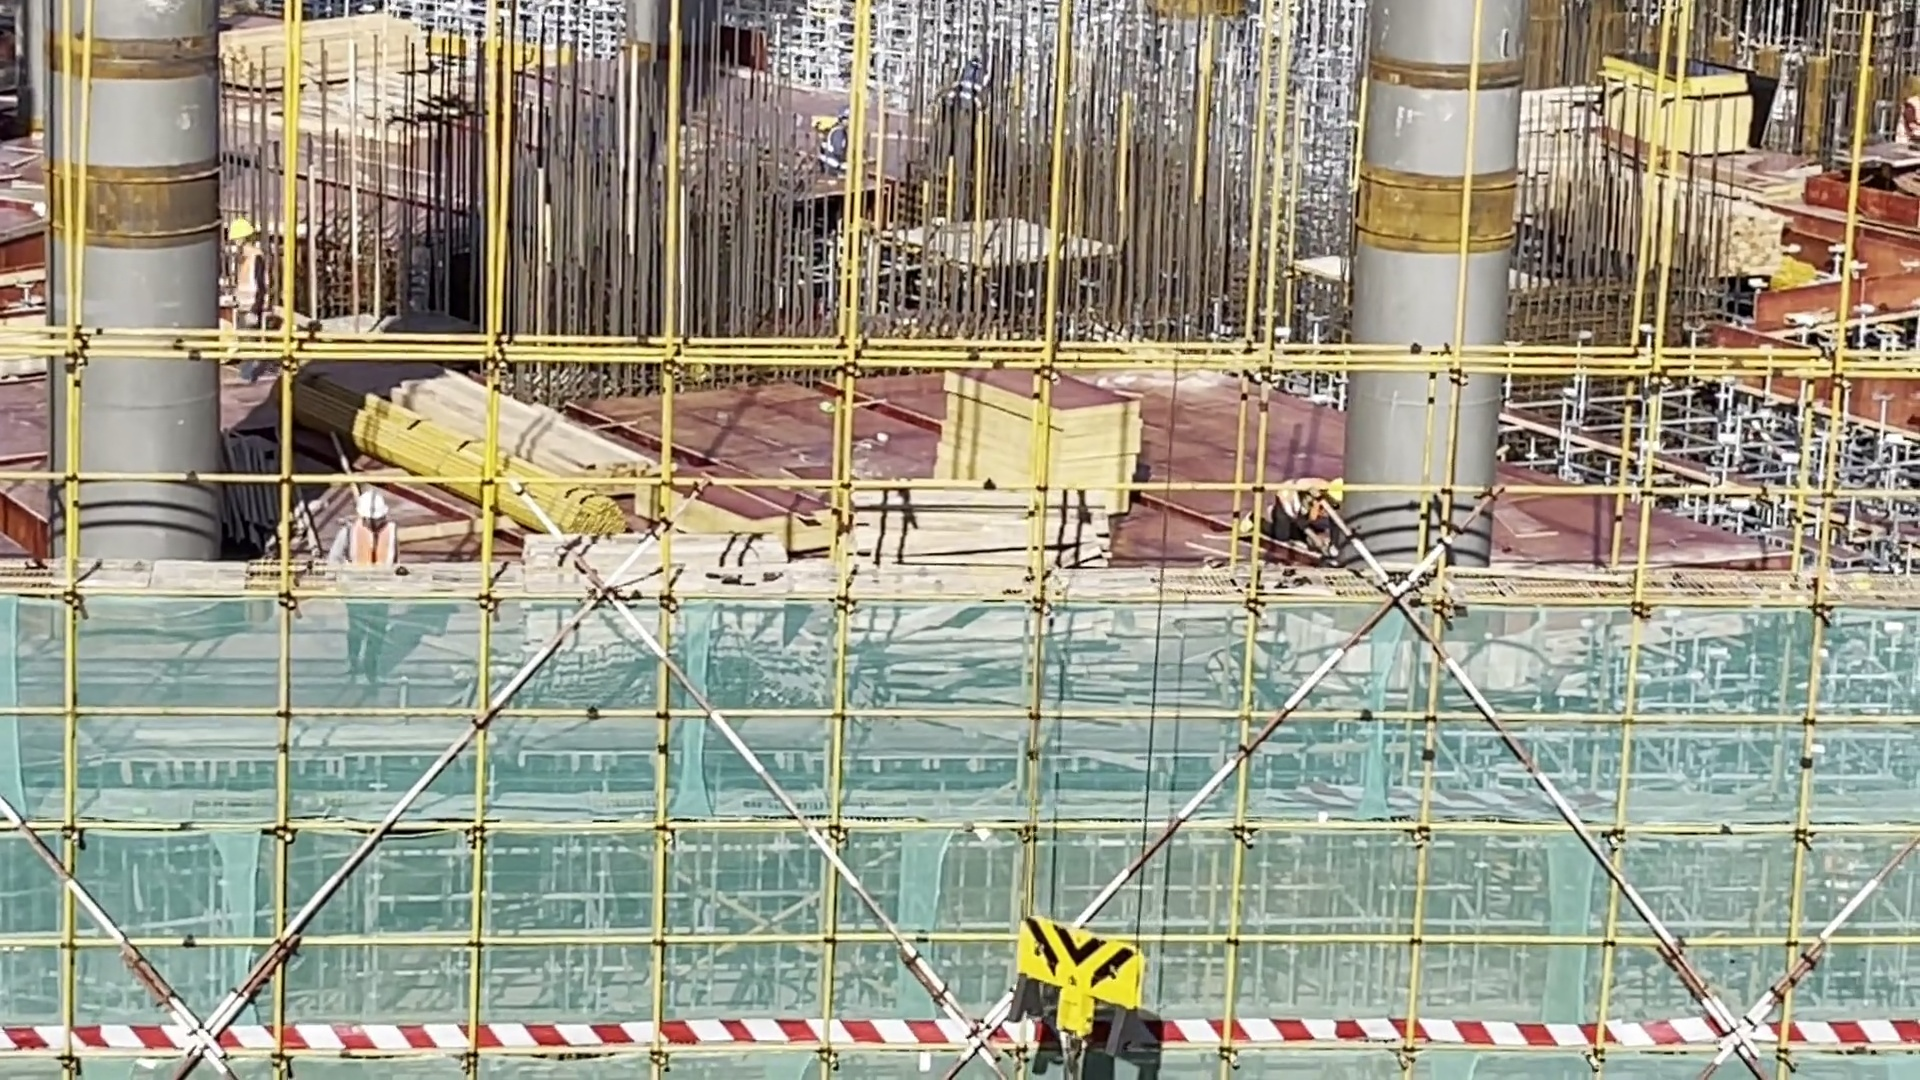board: (935, 366, 1146, 500), (1601, 47, 1754, 157)
helmet: (353, 491, 388, 519)
hook: (1016, 919, 1148, 1042)
person: (336, 483, 402, 676), (223, 210, 285, 393), (1258, 464, 1361, 556)
vest: (343, 525, 396, 565), (236, 254, 265, 316)
wood: (386, 376, 670, 541), (1724, 206, 1789, 285)
